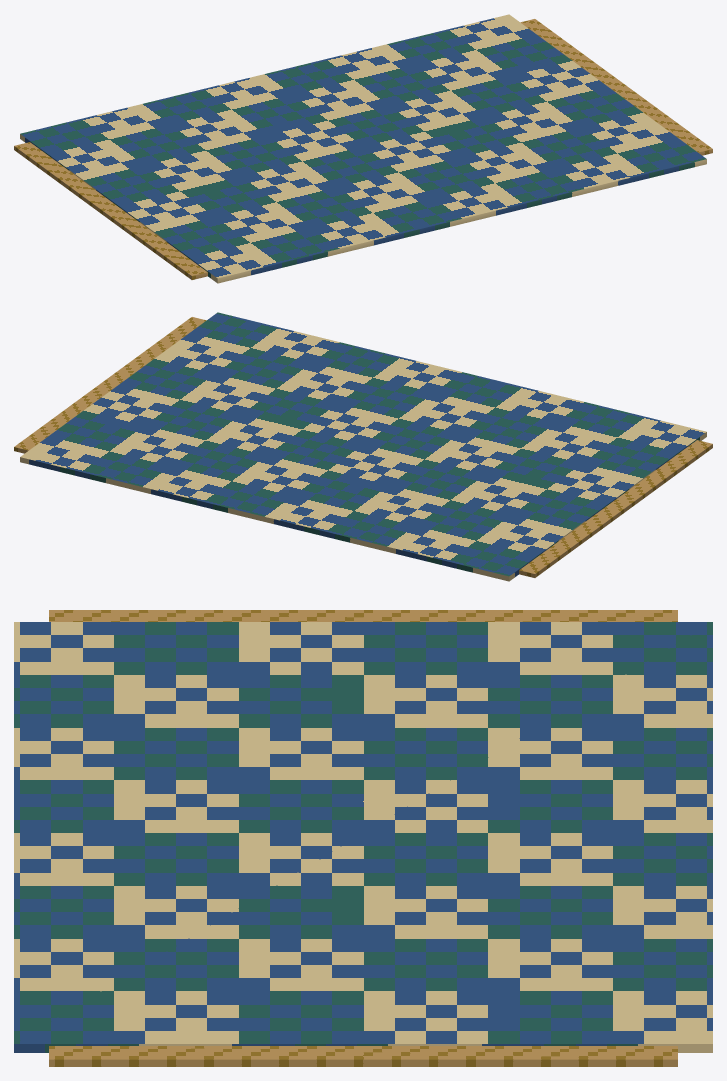
Rendered from rug.glb.
The picture shows the model from 3 angles, top to bottom: view 1: azimuth 30°, elevation 25°; view 2: azimuth 150°, elevation 25°; view 3: azimuth 270°, elevation 25°; orthographic projection. The views are drawn at different scales.
Parts seen in each view (by area): view 1: kit_rug, kit_fringe; view 2: kit_rug, kit_fringe; view 3: kit_rug, kit_fringe.
Boxes of the visible parts, x1,y1,x2,y2 form: kit_rug: (20,14,706,283); kit_fringe: (14,19,712,279); kit_rug: (20,312,706,581); kit_fringe: (14,317,712,577); kit_rug: (14,622,712,1052); kit_fringe: (49,610,677,1066).
Size of the model in its own units: 2.13 by 0.02 by 1.4.
Materials: 2 (2 with a texture image).
